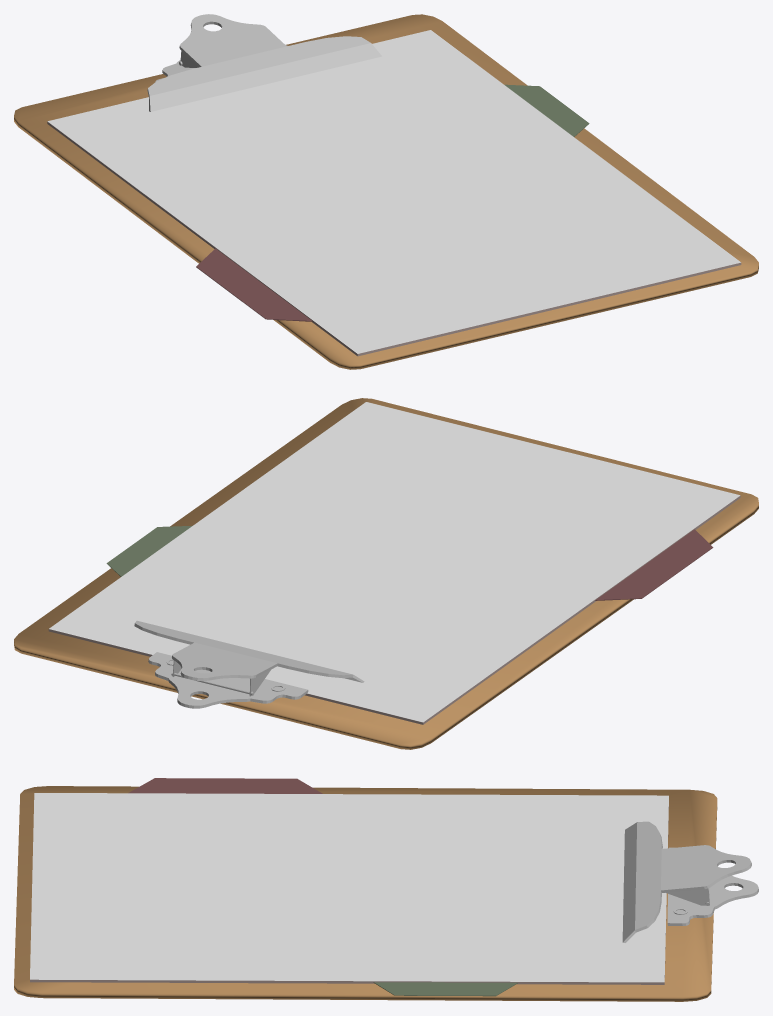
The model's file is ClipBoard.fbx.
3 renders of one model, top to bottom at view 1: azimuth 30°, elevation 25°; view 2: azimuth 150°, elevation 25°; view 3: azimuth 270°, elevation 25°, orthographic.
Visible parts, largest first — view 1: Plane; view 2: Plane; view 3: Plane.
Part boxes in pixels (<box>): Plane: <box>14,14,758,369</box>; Plane: <box>14,398,758,749</box>; Plane: <box>14,778,758,1001</box>.
Size of the model in its own units: 22.8 by 1.86 by 32.98.
